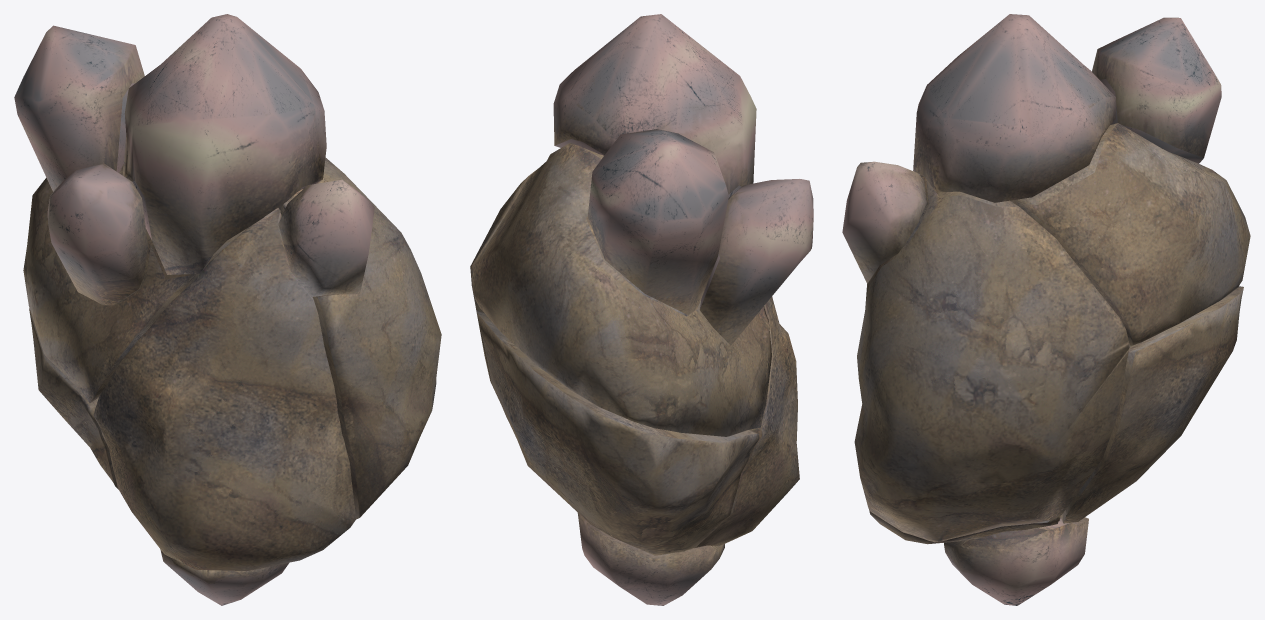
File: SM_Mineral_1_Pieces.fbx
3 views of the same model, side by side, from view 1: azimuth 30°, elevation 25°; view 2: azimuth 150°, elevation 25°; view 3: azimuth 270°, elevation 25° (orthographic).
Visible parts, largest first — view 1: SM_Mineral_1_Piece_4, SM_Mineral_1_Piece_6, SM_Mineral_1_Piece_9, SM_Mineral_1_Piece_2, SM_Mineral_1_Piece_3, SM_Mineral_1_Piece_1, SM_Mineral_1_Piece_8, SM_Mineral_1_Piece_5, SM_Mineral_1_Piece_7; view 2: SM_Mineral_1_Piece_3, SM_Mineral_1_Piece_5, SM_Mineral_1_Piece_6, SM_Mineral_1_Piece_2, SM_Mineral_1_Piece_1, SM_Mineral_1_Piece_4, SM_Mineral_1_Piece_7, SM_Mineral_1_Piece_9; view 3: SM_Mineral_1_Piece_9, SM_Mineral_1_Piece_3, SM_Mineral_1_Piece_6, SM_Mineral_1_Piece_5, SM_Mineral_1_Piece_2, SM_Mineral_1_Piece_7, SM_Mineral_1_Piece_8, SM_Mineral_1_Piece_4.
Part boxes in pixels (x1,y1,x2,y2): SM_Mineral_1_Piece_4: (93,208,356,570); SM_Mineral_1_Piece_6: (123,14,326,274); SM_Mineral_1_Piece_9: (279,157,441,519); SM_Mineral_1_Piece_2: (14,25,144,191); SM_Mineral_1_Piece_3: (23,164,245,402); SM_Mineral_1_Piece_1: (47,163,147,305); SM_Mineral_1_Piece_8: (278,179,374,296); SM_Mineral_1_Piece_5: (29,308,118,489); SM_Mineral_1_Piece_7: (160,549,288,605); SM_Mineral_1_Piece_3: (472,142,771,436); SM_Mineral_1_Piece_5: (476,310,759,555); SM_Mineral_1_Piece_6: (553,14,756,197); SM_Mineral_1_Piece_2: (587,129,728,314); SM_Mineral_1_Piece_1: (699,179,813,345); SM_Mineral_1_Piece_4: (694,296,799,548); SM_Mineral_1_Piece_7: (577,513,724,605); SM_Mineral_1_Piece_9: (470,169,537,400); SM_Mineral_1_Piece_9: (854,174,1129,542); SM_Mineral_1_Piece_3: (1010,123,1250,345); SM_Mineral_1_Piece_6: (913,14,1115,202); SM_Mineral_1_Piece_5: (1060,286,1243,523); SM_Mineral_1_Piece_2: (1092,17,1221,163); SM_Mineral_1_Piece_7: (944,517,1088,605); SM_Mineral_1_Piece_8: (842,161,926,283); SM_Mineral_1_Piece_4: (869,509,1060,544).
Bounding box in the file's own units: 0.8165 × 1.36 × 0.8532.
